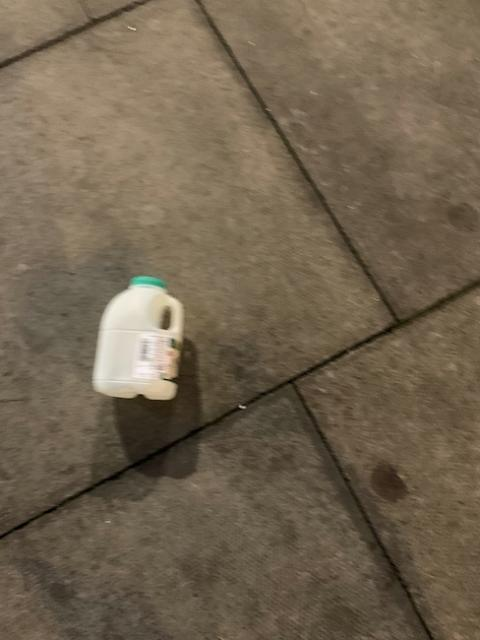plastic: (94, 275, 185, 398)
